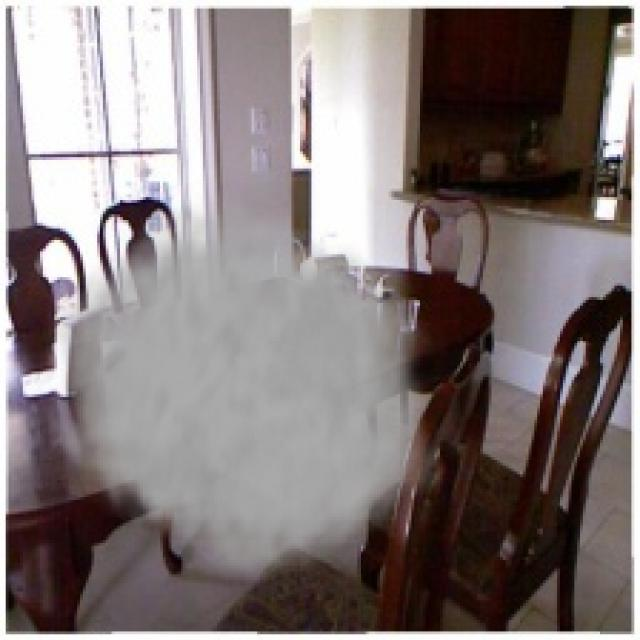smoke: (49, 183, 448, 591)
